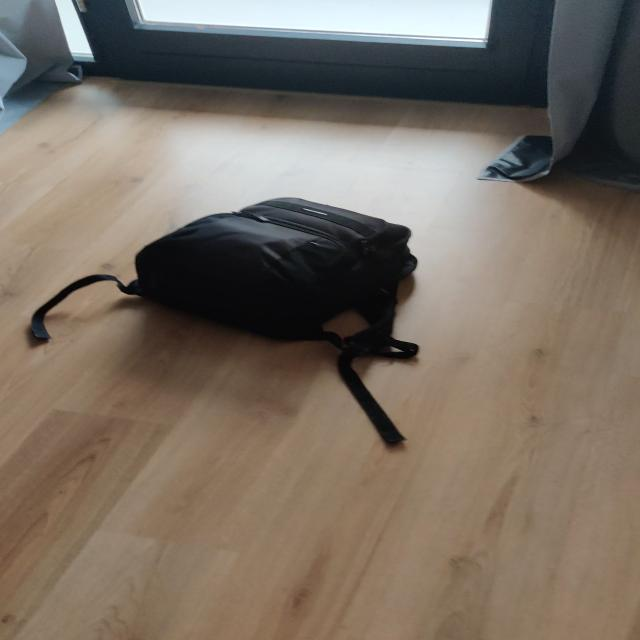backpack: (111, 193, 428, 345)
